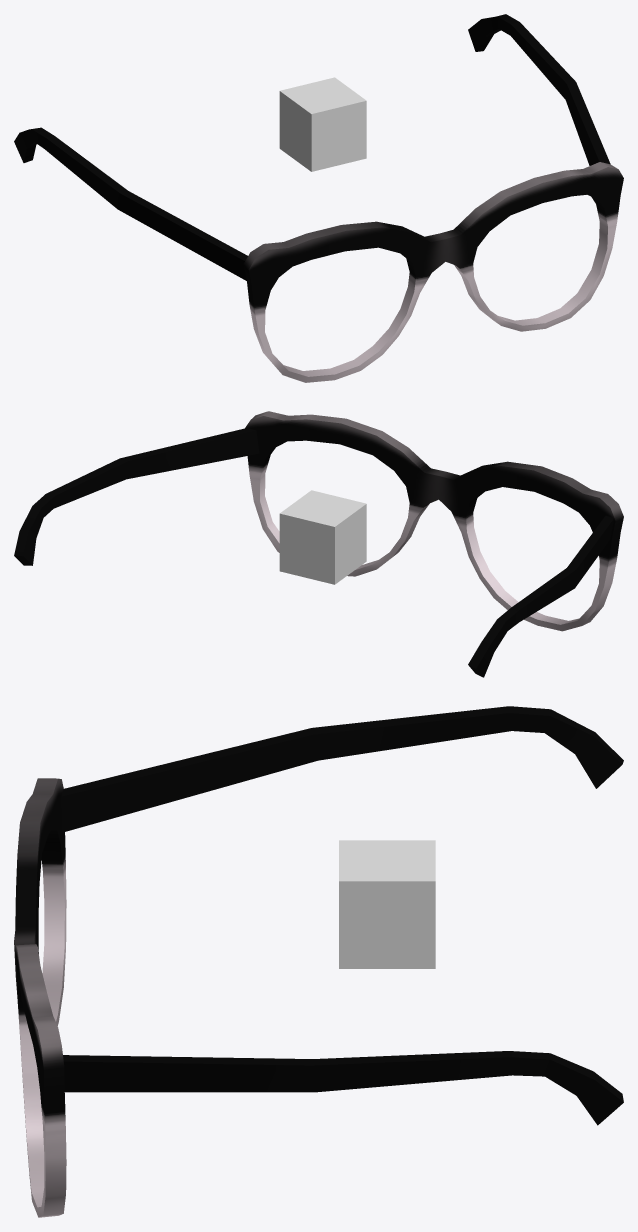
The model's file is girl_glasses10.FBX.
3 renders of one model, top to bottom at view 1: azimuth 30°, elevation 25°; view 2: azimuth 150°, elevation 25°; view 3: azimuth 270°, elevation 25°, orthographic. The views are drawn at different scales.
Parts seen in each view (by area): view 1: girl_glasses023, faceSpawn; view 2: girl_glasses023, faceSpawn; view 3: girl_glasses023, faceSpawn.
Boxes of the visible parts, x1,y1,x2,y2 form: girl_glasses023: [14, 14, 623, 382]; faceSpawn: [279, 77, 366, 171]; girl_glasses023: [14, 411, 623, 677]; faceSpawn: [279, 490, 366, 584]; girl_glasses023: [14, 706, 623, 1217]; faceSpawn: [339, 840, 435, 968].
Size of the model in its own units: 42.97 by 14.96 by 31.52.
